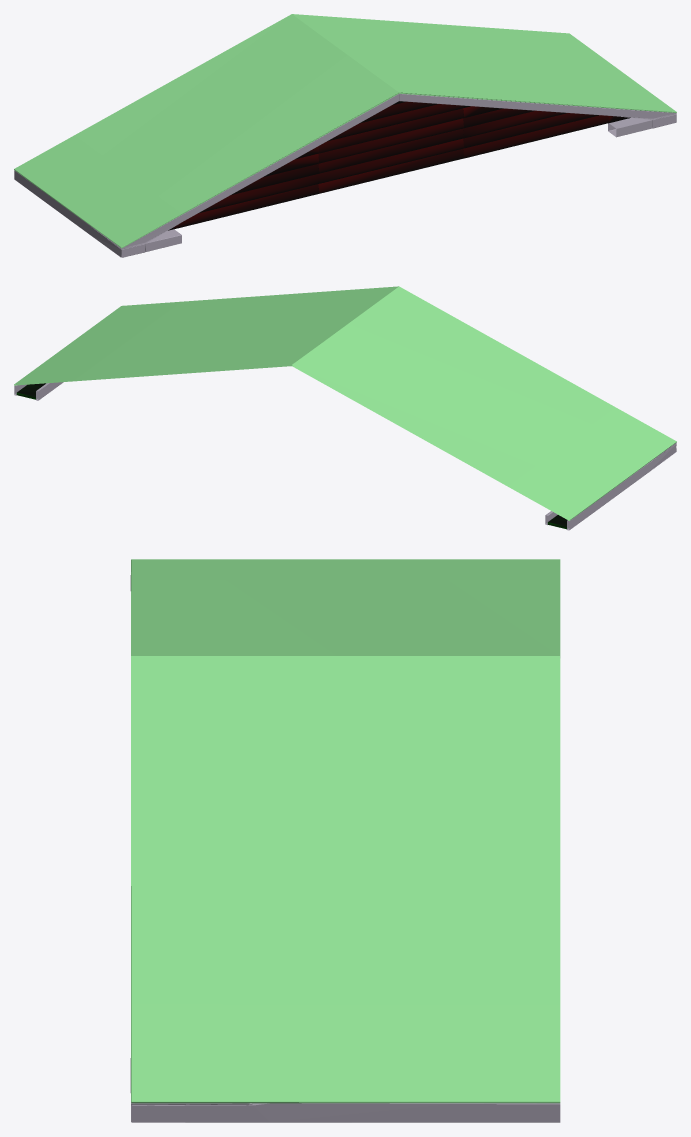
Rendered from SM_House_FrontEntranceRoof_A.fbx.
3 views of the same model, one above another, from view 1: azimuth 30°, elevation 25°; view 2: azimuth 150°, elevation 25°; view 3: azimuth 270°, elevation 25° (orthographic). The views are drawn at different scales.
Visible parts, largest first — view 1: SM_House_FrontEntranceRoof_A; view 2: SM_House_FrontEntranceRoof_A; view 3: SM_House_FrontEntranceRoof_A.
Part boxes in pixels (left/top/right/bottom): SM_House_FrontEntranceRoof_A: left=14, top=14, right=676, bottom=257; SM_House_FrontEntranceRoof_A: left=14, top=286, right=676, bottom=530; SM_House_FrontEntranceRoof_A: left=130, top=559, right=560, bottom=1122.
Bounding box in the file's own units: 1151 × 386 × 194.
